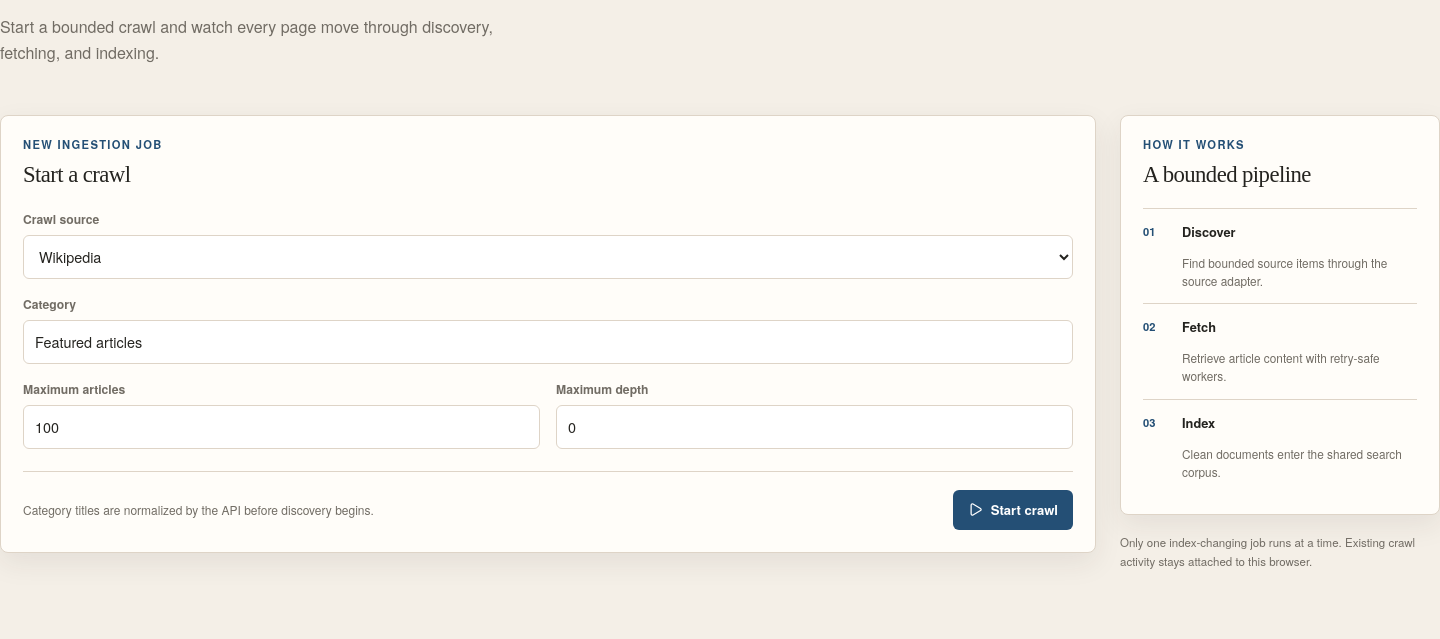
Test: CrawlsPage › submits and monitors a Medium crawl through the shared item view
Select "Medium publication" in the dropdown labelled "Crawl source" at (548, 257), box x1=23 y1=235 x2=1073 y2=279
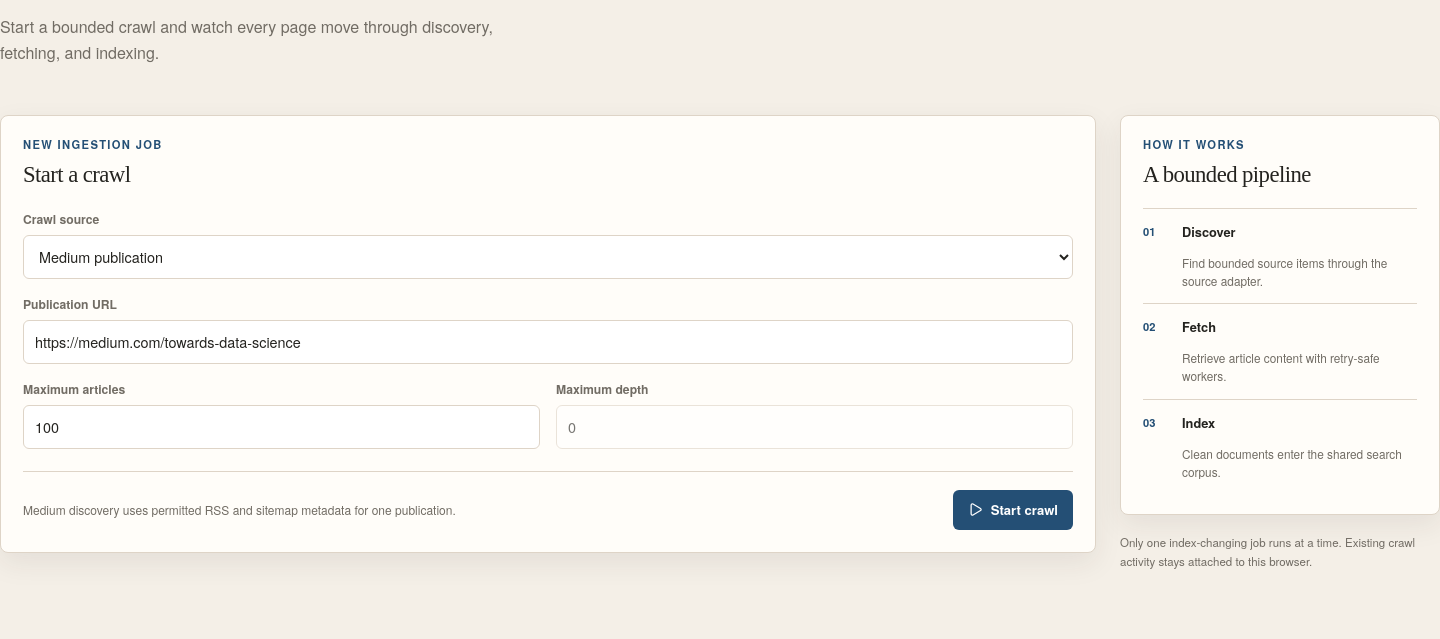
Click the button "Start crawl" at (1013, 510), box x1=953 y1=490 x2=1073 y2=530
(page scrolled)
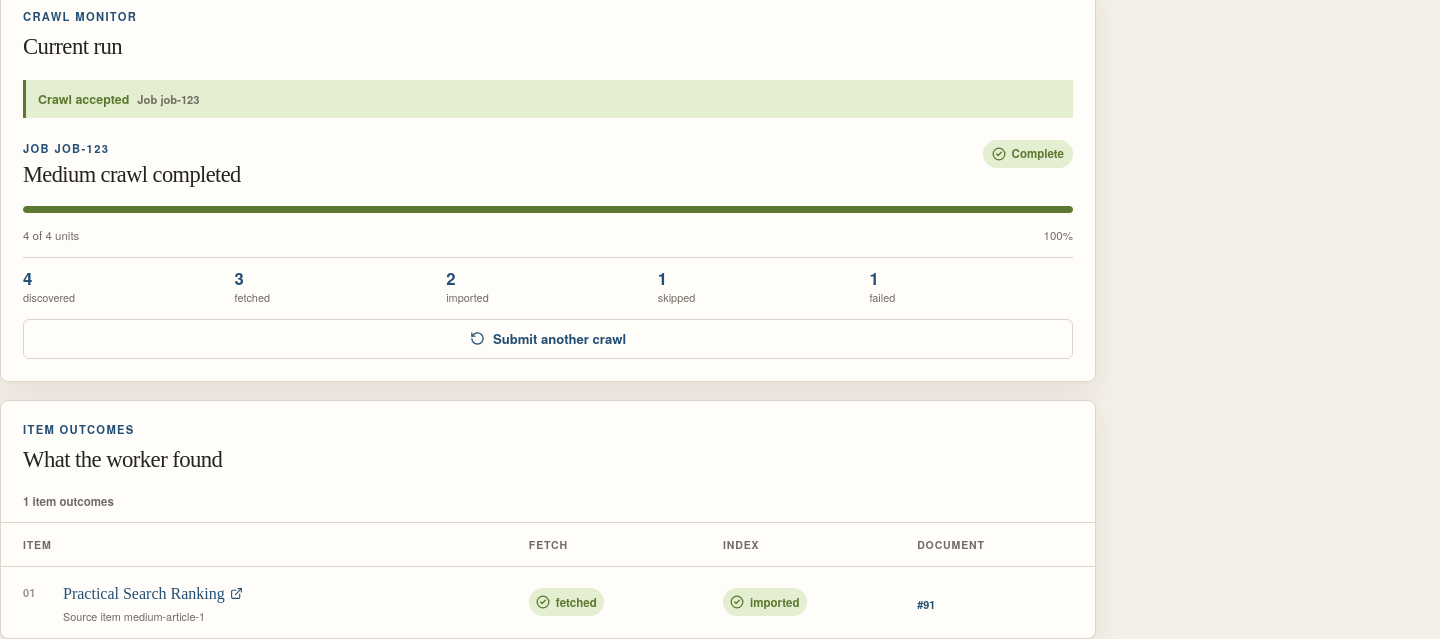
Result: the heading "Medium crawl completed" is shown at x1=23 y1=162 x2=241 y2=188
Result: the link "Practical Search Ranking" is shown at x1=63 y1=584 x2=243 y2=604
